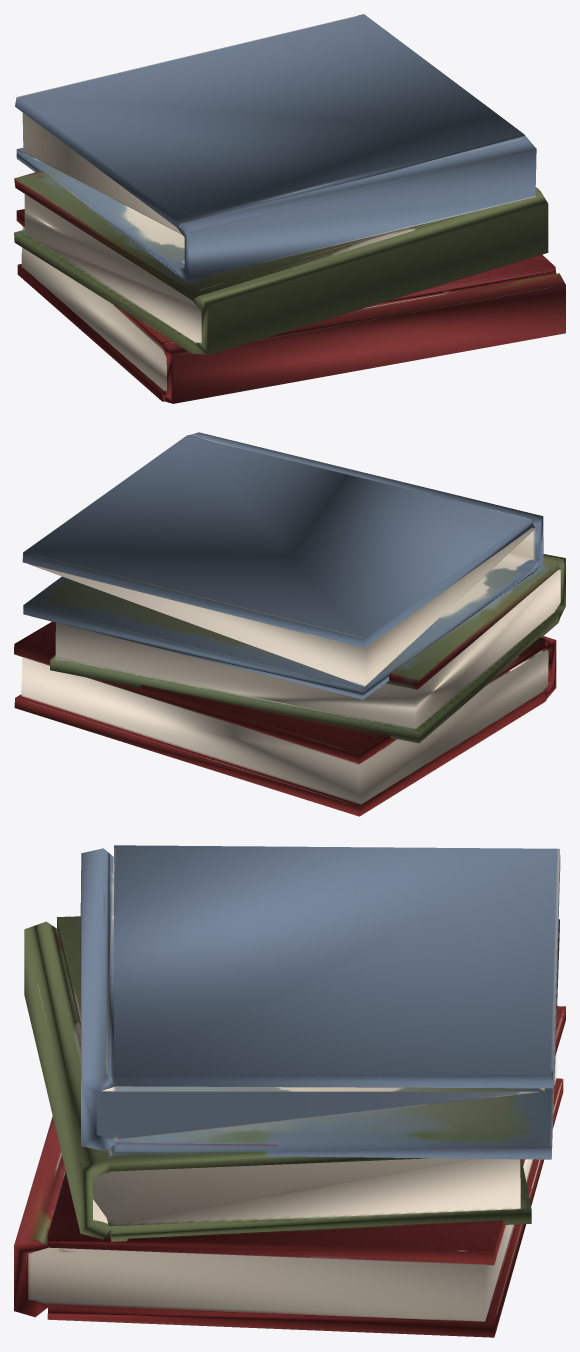
The model's file is book_stack.fbx.
3 views of the same model, one above another, from view 1: azimuth 30°, elevation 25°; view 2: azimuth 150°, elevation 25°; view 3: azimuth 270°, elevation 25° (orthographic). The views are drawn at different scales.
Parts seen in each view (by area): view 1: Mesh_0; view 2: Mesh_0; view 3: Mesh_0.
Boxes of the visible parts, bbox=[...] form: Mesh_0: bbox=[14, 14, 565, 403]; Mesh_0: bbox=[14, 432, 565, 816]; Mesh_0: bbox=[14, 845, 565, 1337].
Size of the model in its own units: 95.36 by 40.48 by 83.25.
Materials: 1 (1 with a texture image).
